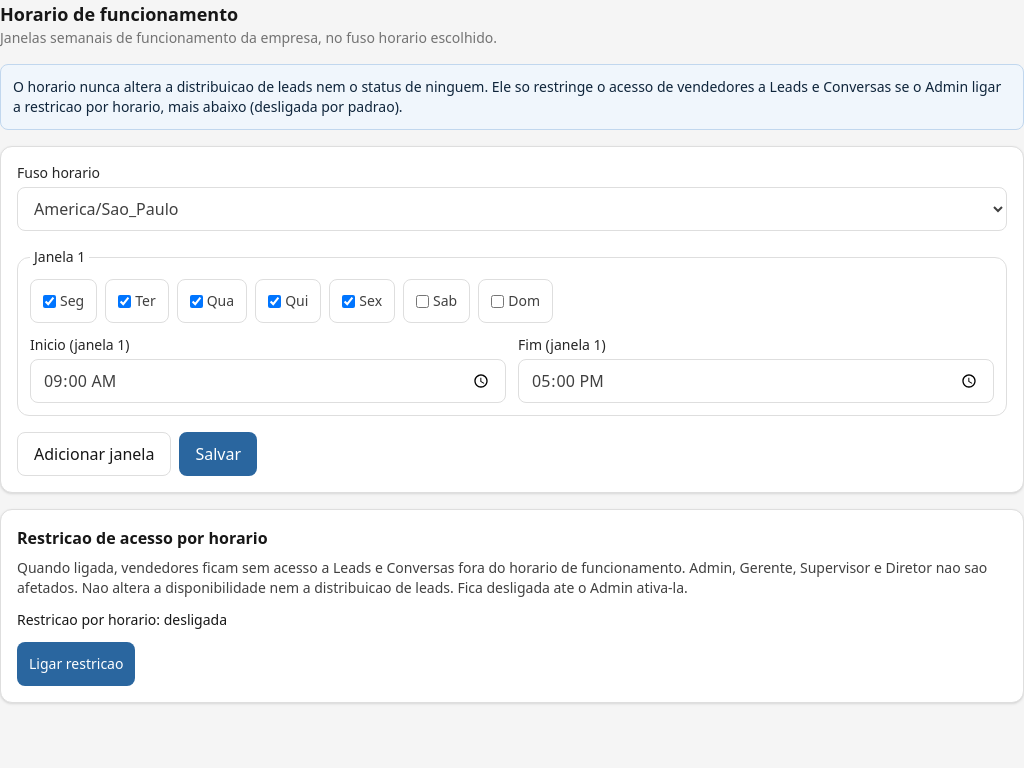
Test case: BusinessHoursPage › erro do servidor ao salvar (422) e exibido
The width and height of the screenshot is (1024, 768).
Click the button "Salvar". click: (218, 454)
box: [179, 432, 257, 476]
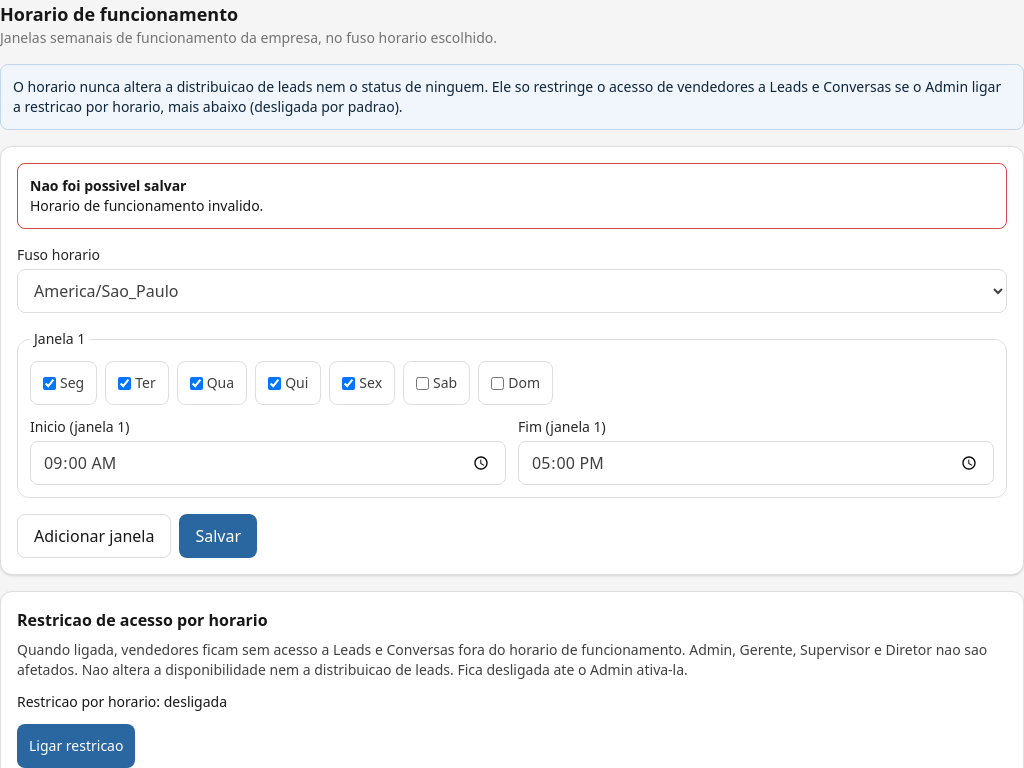
Result: the text "Horario de funcionamento invalido." is shown at [30, 196, 263, 215]
